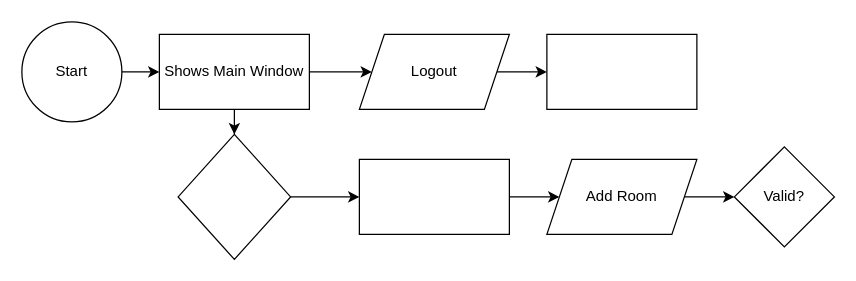
Image size: 856x281. Some labels were removed from this diagram. The centre of each missing label's shape, as x and y in pixels:
"Close Main Window and Show Login Dialog" goes at (x=621, y=71).
"Room or Reservation Page" goes at (x=234, y=196).
"Show Room Page" goes at (x=433, y=196).
